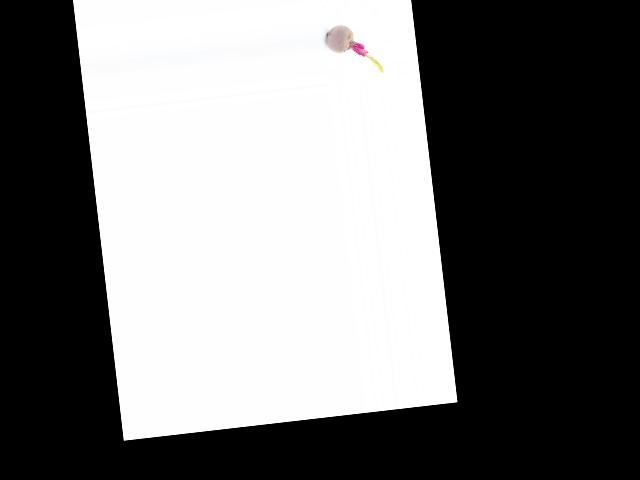beet: (324, 20, 383, 77)
